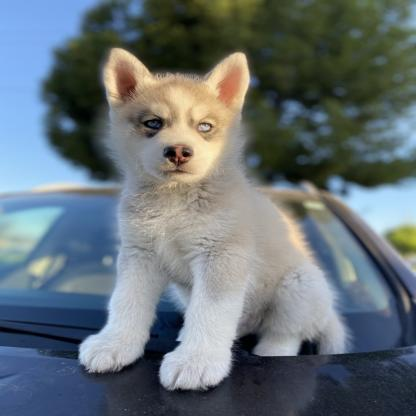dog: (77, 43, 360, 386)
